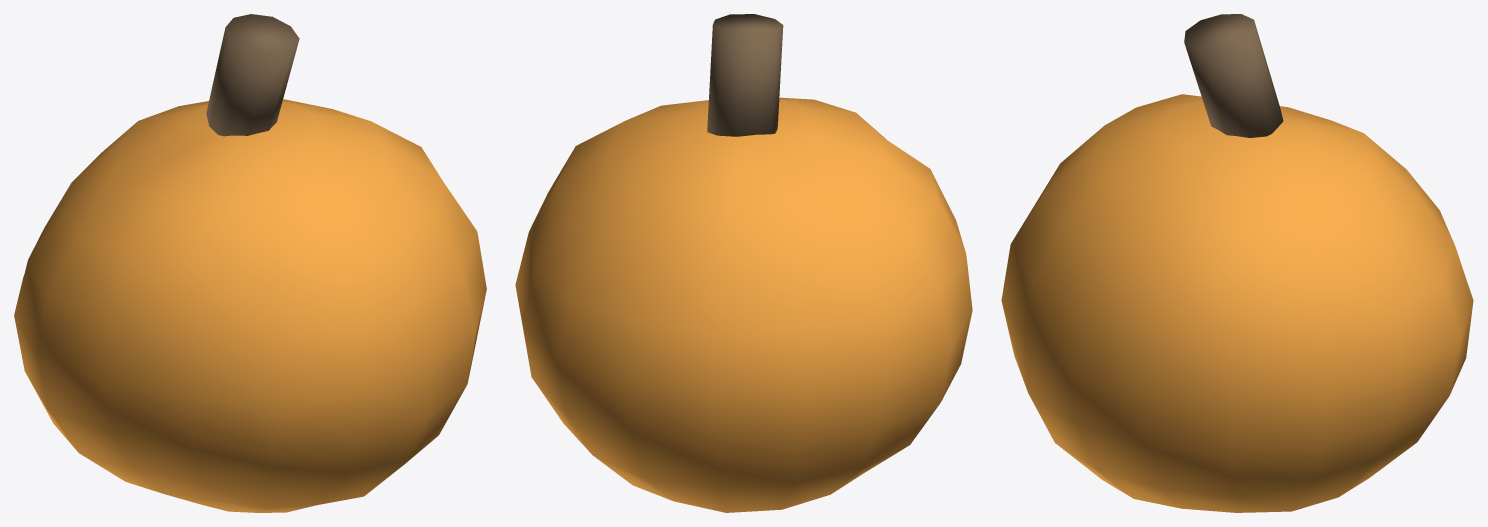
File: pumpkin.glb
The picture shows the model from 3 angles, left to right: view 1: azimuth 30°, elevation 25°; view 2: azimuth 150°, elevation 25°; view 3: azimuth 270°, elevation 25°; orthographic projection. The views are drawn at different scales.
Visible parts, largest first — view 1: pumpkin; view 2: pumpkin; view 3: pumpkin.
Part boxes in pixels (x1,y1,x2,y2): pumpkin: (14,14,486,512); pumpkin: (515,14,972,512); pumpkin: (1001,14,1473,512).
Bounding box in the file's own units: 0.7756 × 0.8282 × 0.7591.
